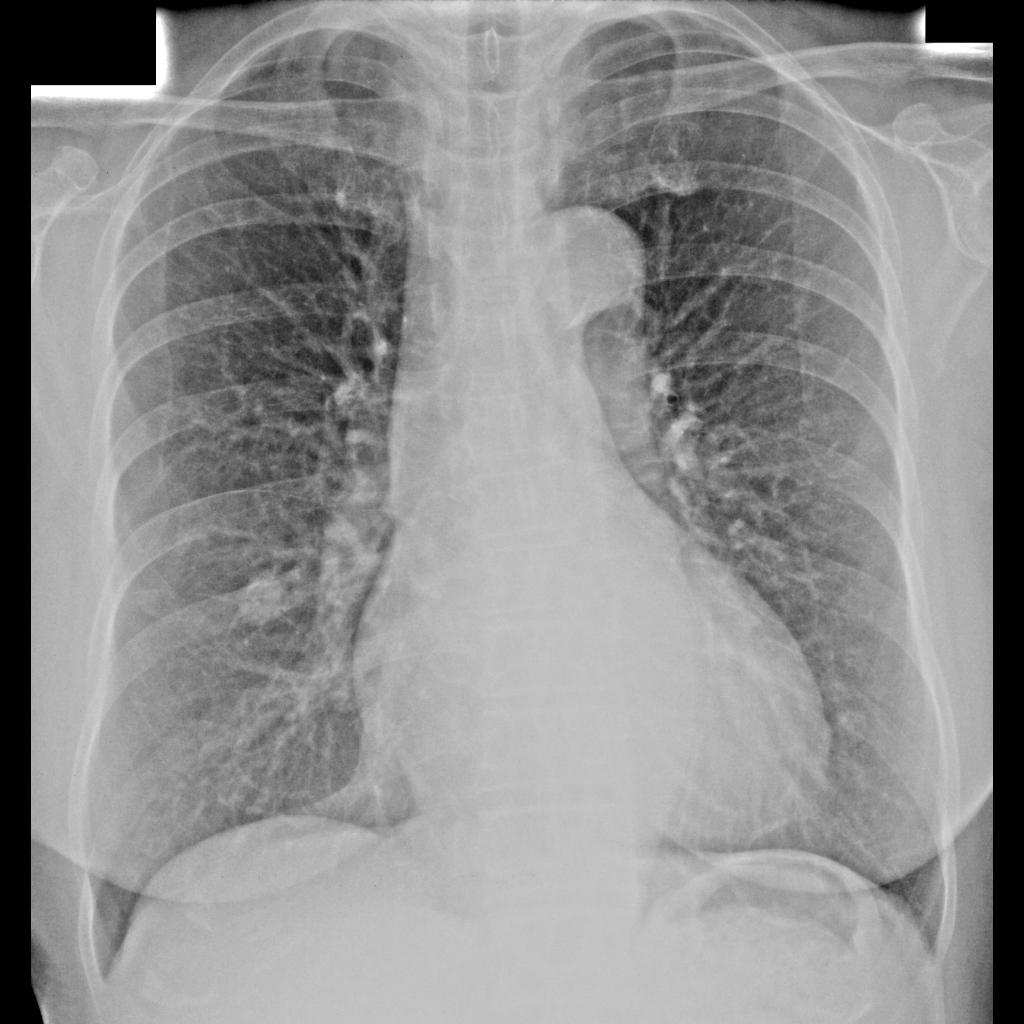Nodule: (242, 577, 289, 624)
